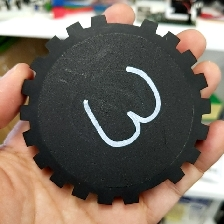gear: (18, 14, 212, 206)
missing: (123, 164, 185, 207), (90, 13, 159, 35)
